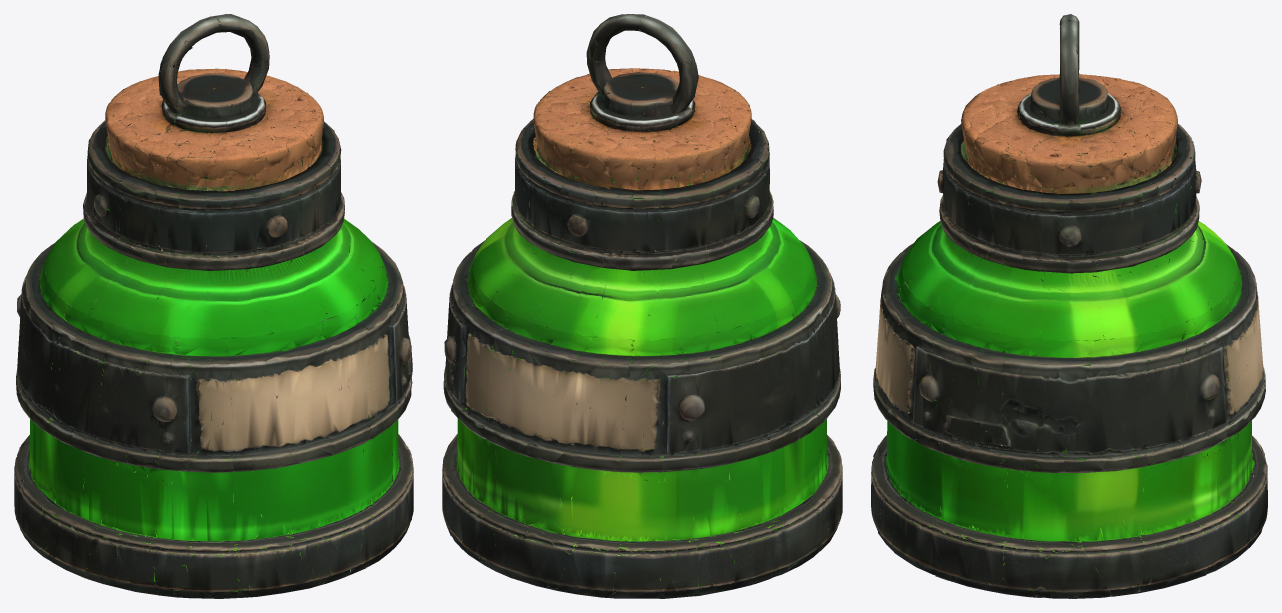
File: tincture-bottle.glb
3 views of the same model, side by side, from view 1: azimuth 30°, elevation 25°; view 2: azimuth 150°, elevation 25°; view 3: azimuth 270°, elevation 25° (orthographic).
Visible parts, largest first — view 1: Mesh_0; view 2: Mesh_0; view 3: Mesh_0.
Part boxes in pixels (x1,y1,x2,y2): Mesh_0: (14, 14, 413, 598); Mesh_0: (442, 14, 842, 598); Mesh_0: (871, 14, 1267, 598).
Bounding box in the file's own units: 0.1301 × 0.1802 × 0.13.
1 material, 1 textured.
